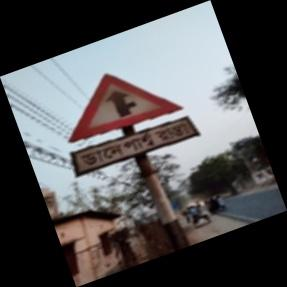Side-road-right: (66, 72, 196, 181)
